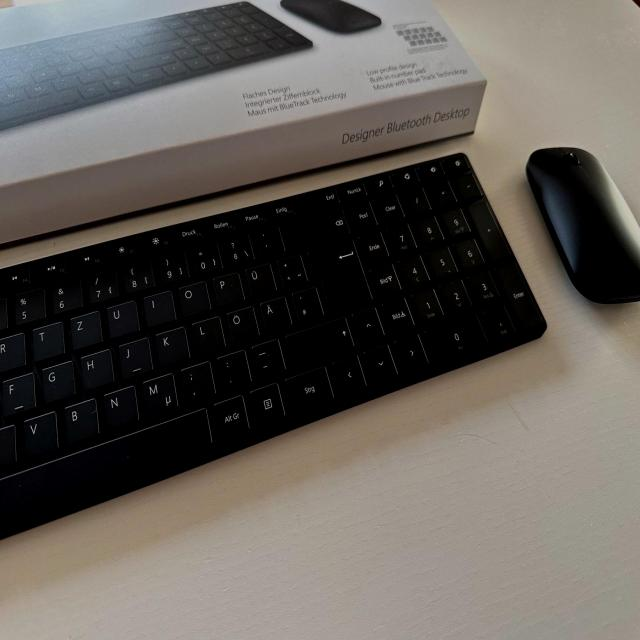0: (189, 239, 222, 274)
4: (0, 295, 8, 333)
5: (10, 284, 46, 324)
6: (49, 274, 83, 313)
7: (85, 265, 119, 303)
8: (121, 256, 153, 292)
9: (156, 247, 188, 283)
accent: (253, 222, 285, 256)
ae: (257, 292, 291, 332)
altgr-right: (212, 393, 250, 440)
b: (61, 394, 99, 444)
c: (0, 422, 16, 472)
comma: (179, 358, 215, 402)
del: (282, 204, 350, 248)
enter: (306, 236, 372, 309)
f: (0, 369, 35, 418)
g: (39, 358, 75, 404)
h: (78, 345, 114, 391)
hash: (289, 283, 323, 321)
i: (142, 287, 176, 327)
j: (117, 334, 152, 380)
k: (154, 323, 190, 365)
keyboard: (0, 149, 548, 542)
l: (191, 313, 225, 354)
m: (140, 370, 177, 417)
minus: (249, 336, 285, 376)
n: (101, 382, 138, 430)
o: (176, 278, 210, 317)
oe: (225, 303, 259, 343)
p: (210, 270, 244, 306)
plus: (275, 251, 307, 287)
point: (215, 347, 251, 389)
r: (0, 328, 25, 374)
shift-right: (283, 313, 353, 364)
space: (0, 398, 214, 525)
ss: (222, 231, 254, 265)
strg-right: (282, 363, 335, 413)
t: (30, 319, 64, 361)
u: (105, 297, 139, 339)
ue: (242, 261, 276, 297)
v: (19, 408, 58, 457)
z: (68, 307, 102, 351)
